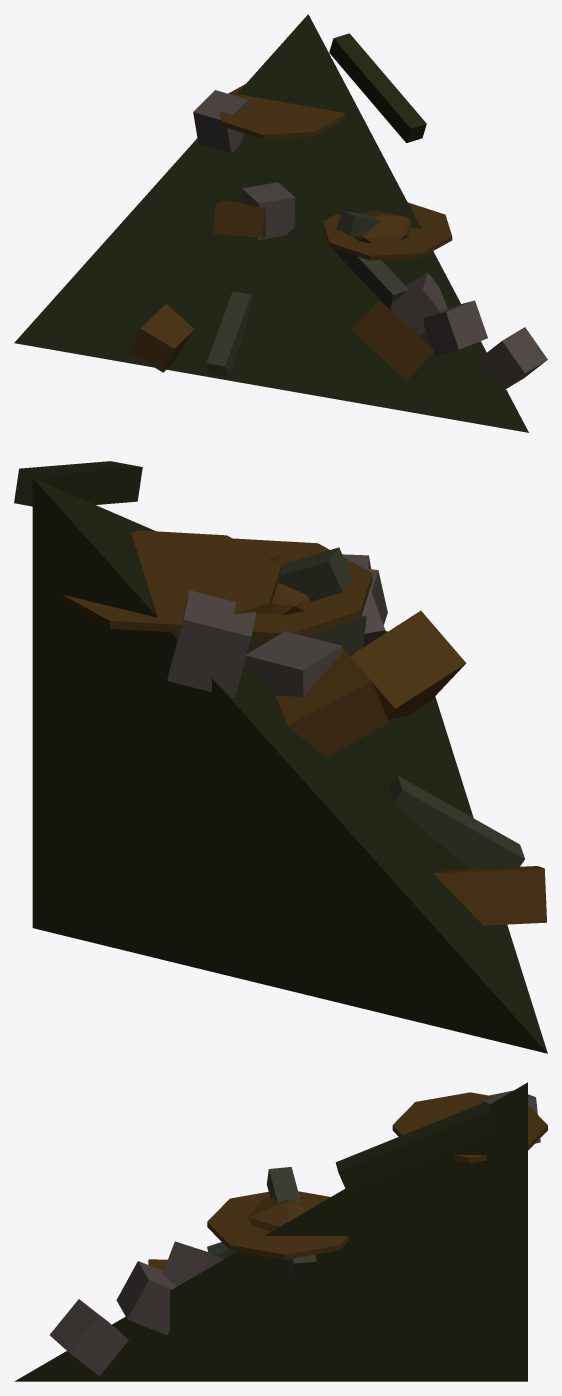
File: SM_PilaZombi_RemateIzq_Altura3_s2_LOD1.fbx
3 views of the same model, one above another, from view 1: azimuth 30°, elevation 25°; view 2: azimuth 150°, elevation 25°; view 3: azimuth 270°, elevation 25° (orthographic). The views are drawn at different scales.
Visible parts, largest first — view 1: SM_pila_zombis_v12_LOD1; view 2: SM_pila_zombis_v12_LOD1; view 3: SM_pila_zombis_v12_LOD1.
Boxes of the visible parts, x1,y1,x2,y2 form: SM_pila_zombis_v12_LOD1: [14, 14, 547, 432]; SM_pila_zombis_v12_LOD1: [14, 461, 547, 1053]; SM_pila_zombis_v12_LOD1: [14, 1082, 547, 1381].
Bounding box in the file's own units: 2.33 × 1.7 × 2.75.
